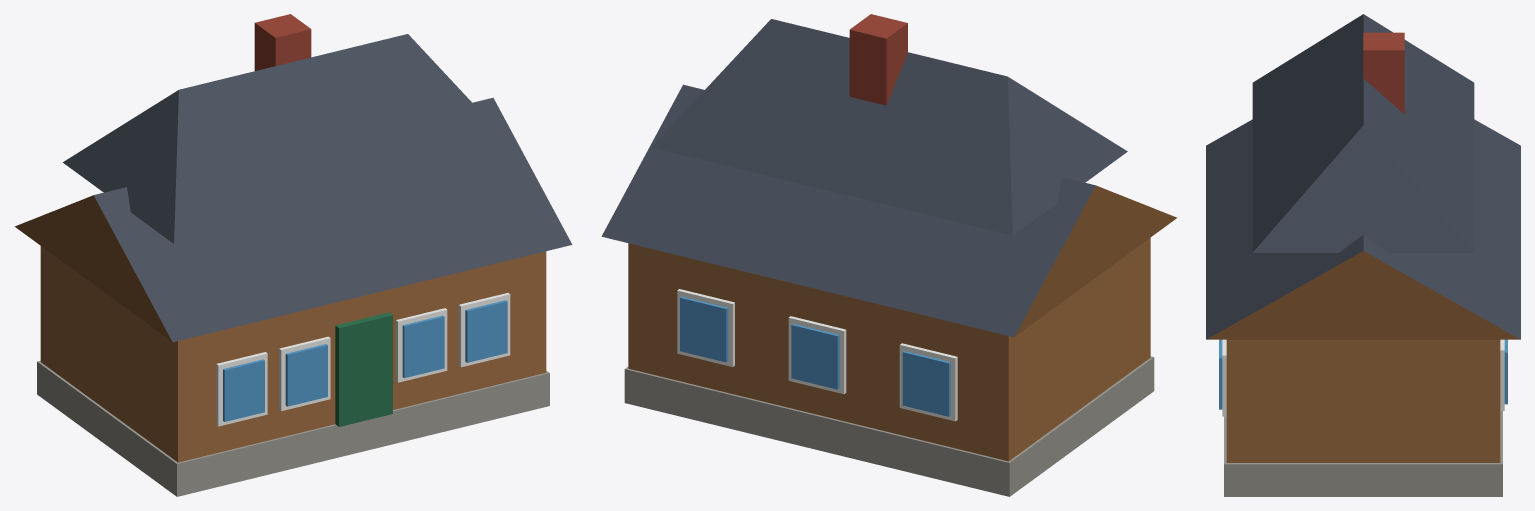
File: 75_samogitian_wood_1.obj
3 views of the same model, side by side, from view 1: azimuth 30°, elevation 25°; view 2: azimuth 150°, elevation 25°; view 3: azimuth 270°, elevation 25° (orthographic). The views are drawn at different scales.
Visible parts, largest first — view 1: 75_samogitian_wood_1; view 2: 75_samogitian_wood_1; view 3: 75_samogitian_wood_1.
Part boxes in pixels (<box>): 75_samogitian_wood_1: <box>14,14,572,496</box>; 75_samogitian_wood_1: <box>601,14,1177,496</box>; 75_samogitian_wood_1: <box>1206,14,1520,496</box>.
Size of the model in its own units: 1.78 by 1.56 by 1.22.
